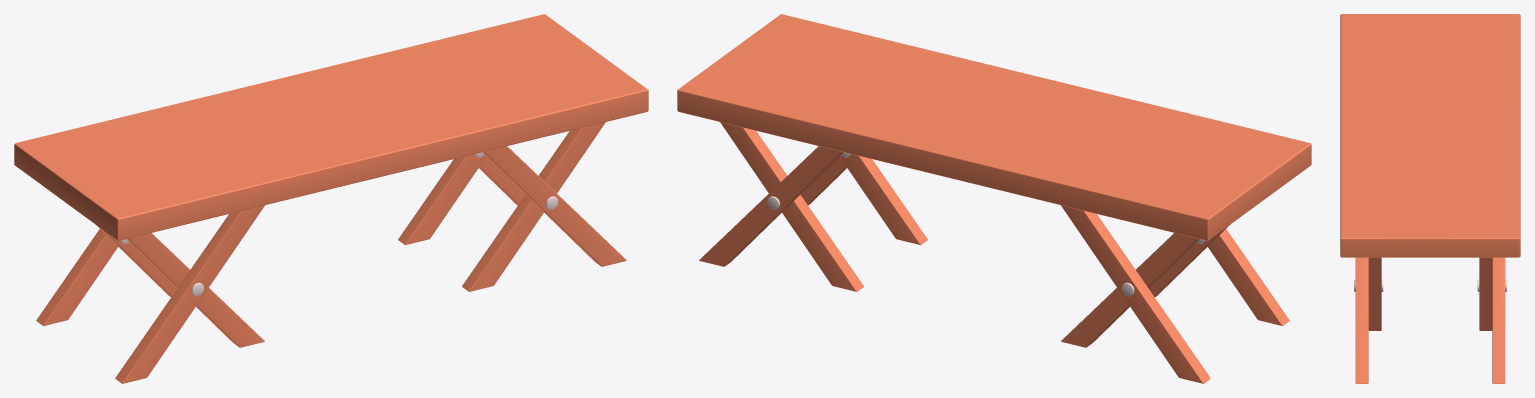
The model's file is Town_20_Table_1.glb.
3 views of the same model, side by side, from view 1: azimuth 30°, elevation 25°; view 2: azimuth 150°, elevation 25°; view 3: azimuth 270°, elevation 25° (orthographic). The views are drawn at different scales.
Visible parts, largest first — view 1: Town_20_Table_1; view 2: Town_20_Table_1; view 3: Town_20_Table_1.
Part boxes in pixels (box(x1,y1,x2,y2)): Town_20_Table_1: box(14, 14, 648, 383); Town_20_Table_1: box(677, 14, 1311, 383); Town_20_Table_1: box(1340, 14, 1520, 383).
Size of the model in its own units: 2.72 by 0.8565 by 0.9242.
1 material, 1 textured.
